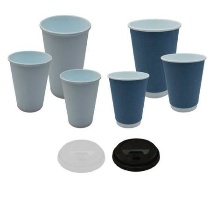paper_cup: (35, 10, 94, 103), (124, 13, 184, 101), (3, 46, 55, 114), (157, 48, 209, 115), (103, 66, 153, 130), (55, 65, 103, 131)
